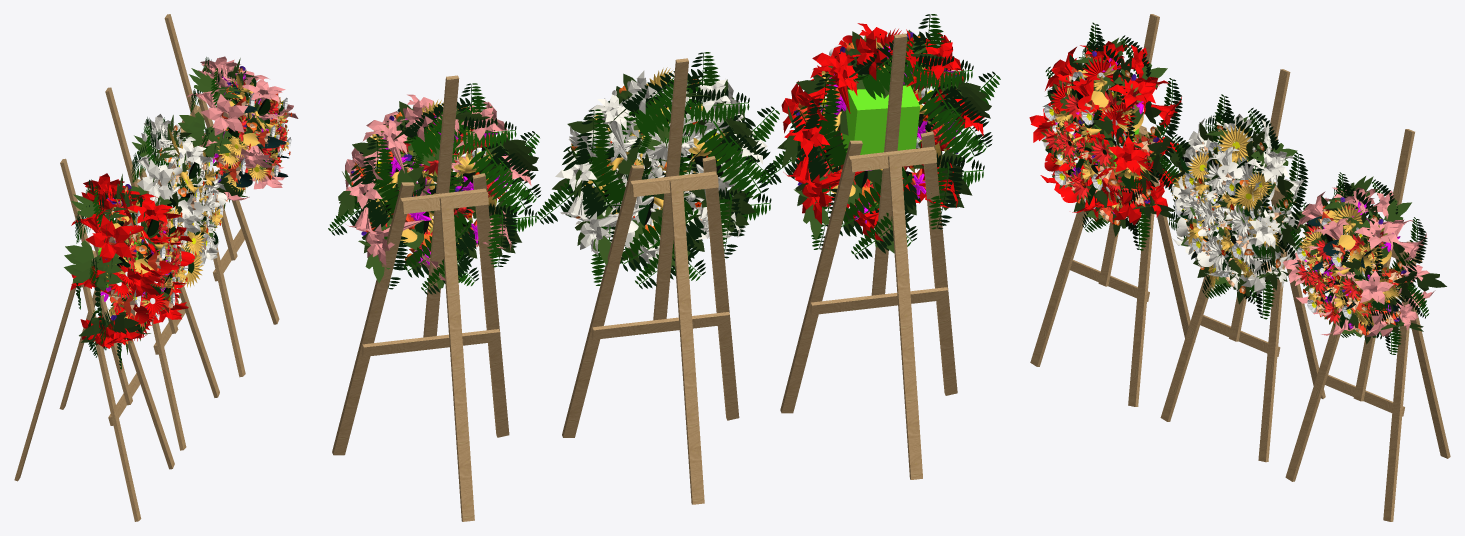
The model's file is wreath-v1.obj.
3 views of the same model, side by side, from view 1: azimuth 30°, elevation 25°; view 2: azimuth 150°, elevation 25°; view 3: azimuth 270°, elevation 25° (orthographic). The views are drawn at different scales.
Parts seen in each view (by area): view 1: C-skp4338.002, C-skp4338.001, C-skp4338, C-Component#99.013, C-Component#73.013, C-Component#46.013, C-Component#99.023, C-Component#108.019, C-Component#108.010, C-Component#99.021, C-Component#73.023, C-Component#108.001 (+11 smaller); view 2: C-skp4338, C-skp4338.001, C-skp4338.002, _C-Component#112_(Loose_Mesh), C-Component#53.013, C-Component#53.014, C-Component#106.014, C-Component#106.013, C-Component#53.015, C-Component#80.014, C-Component#106.015, C-Component#53.008 (+20 smaller); view 3: C-skp4338.001, C-skp4338.002, C-skp4338, C-Component#99.020, C-Component#99.015, C-Component#73.015, C-Component#73.020, C-Component#46.020, C-Component#39, C-Component#53.009, C-Component#106.009, C-Component#99.012 (+2 smaller).
Part boxes in pixels (box(x1,y1,x2,y2)): C-skp4338.002: box(14, 158, 174, 521); C-skp4338.001: box(164, 14, 279, 377); C-skp4338: box(59, 87, 219, 450); C-Component#99.013: box(85, 215, 132, 263); C-Component#73.013: box(200, 94, 247, 135); C-Component#46.013: box(137, 159, 173, 203); C-Component#99.023: box(127, 198, 173, 227); C-Component#108.019: box(65, 240, 122, 271); C-Component#108.010: box(79, 311, 139, 340); C-Component#99.021: box(121, 268, 160, 296); C-Component#73.023: box(242, 79, 285, 106); C-Component#108.001: box(64, 264, 122, 291); C-skp4338: box(562, 58, 739, 504); C-skp4338.001: box(332, 75, 509, 521); C-skp4338.002: box(780, 33, 957, 479); _C-Component#112_(Loose_Mesh): box(842, 85, 919, 154); C-Component#53.013: box(562, 144, 625, 219); C-Component#53.014: box(697, 114, 768, 199); C-Component#106.014: box(918, 79, 984, 162); C-Component#106.013: box(790, 106, 847, 181); C-Component#53.015: box(620, 199, 706, 271); C-Component#80.014: box(468, 141, 532, 214); C-Component#106.015: box(839, 167, 920, 236); C-Component#53.008: box(687, 87, 749, 122); C-skp4338.001: box(1285, 129, 1450, 521); C-skp4338.002: box(1030, 14, 1195, 406); C-skp4338: box(1160, 69, 1325, 462); C-Component#99.020: box(1108, 136, 1147, 175); C-Component#99.015: box(1108, 77, 1155, 107); C-Component#73.015: box(1354, 218, 1400, 249); C-Component#73.020: box(1354, 270, 1393, 304); C-Component#46.020: box(1248, 209, 1280, 248); C-Component#39: box(1217, 124, 1253, 163); C-Component#53.009: box(1283, 152, 1308, 207); C-Component#106.009: box(1159, 78, 1182, 135); C-Component#99.012: box(1113, 186, 1155, 225).
Size of the model in its own units: 2.22 by 1.87 by 2.09.
